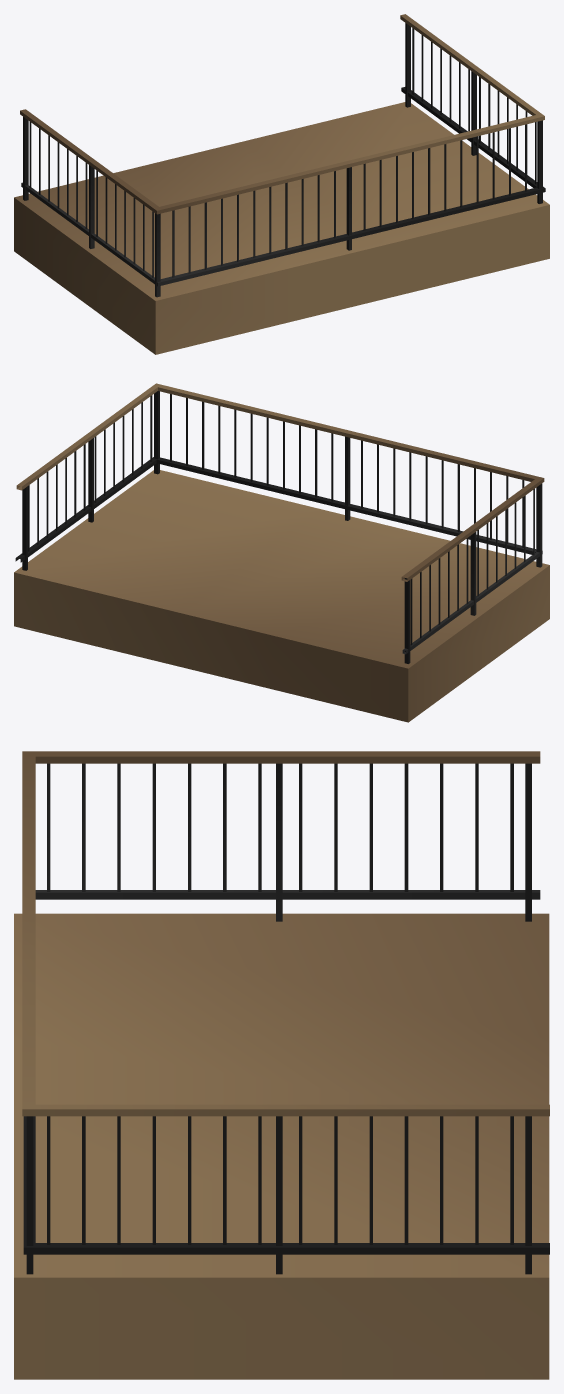
File: Terrace.fbx
3 renders of one model, top to bottom at view 1: azimuth 30°, elevation 25°; view 2: azimuth 150°, elevation 25°; view 3: azimuth 270°, elevation 25°, orthographic. The views are drawn at different scales.
Visible parts, largest first — view 1: Cube.008; view 2: Cube.008; view 3: Cube.008.
Boxes of the visible parts, left/top/right/bottom form: Cube.008: left=14, top=14, right=549, bottom=354; Cube.008: left=14, top=383, right=549, bottom=722; Cube.008: left=14, top=751, right=549, bottom=1379.
Bounding box in the file's own units: 1344 × 461 × 836.
